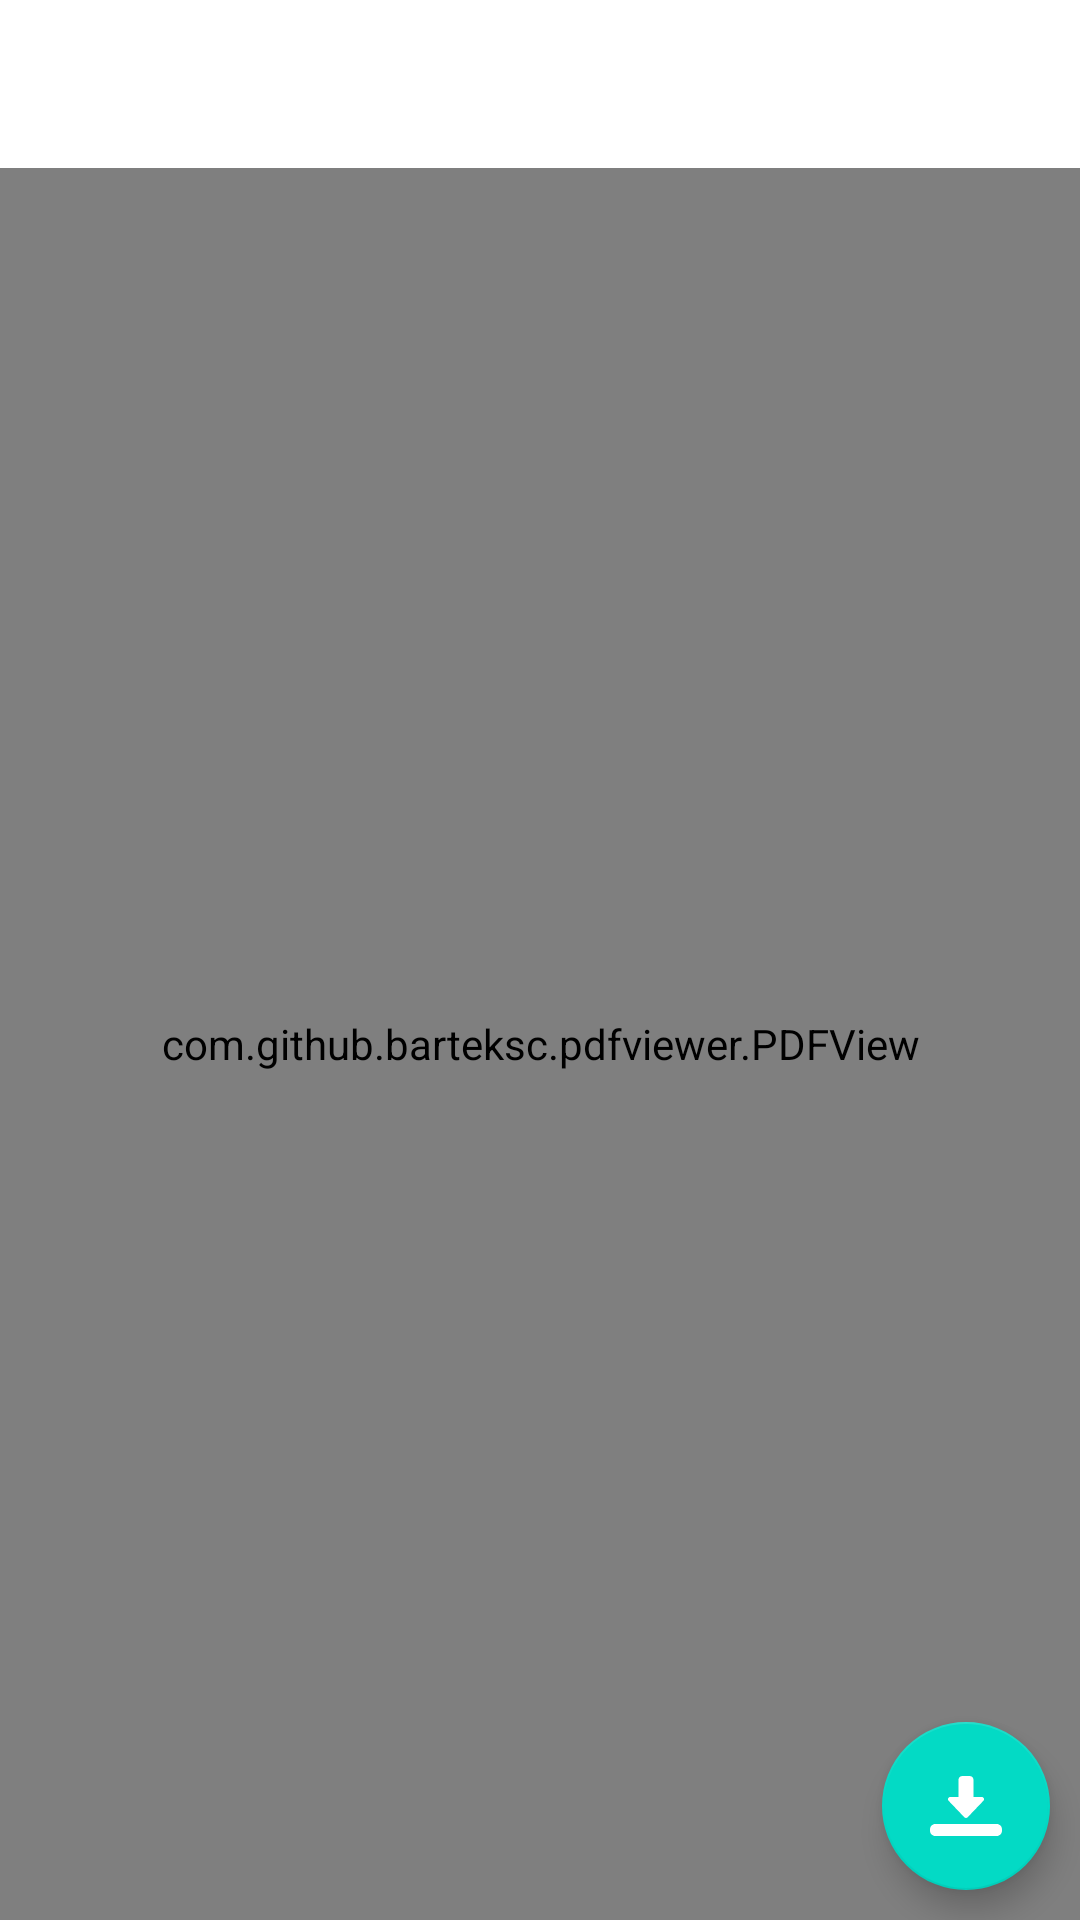

Icons on this 1080px x 1920px Android screen, each with the point to tap as [x,y]:
direct download: [966,1806]
